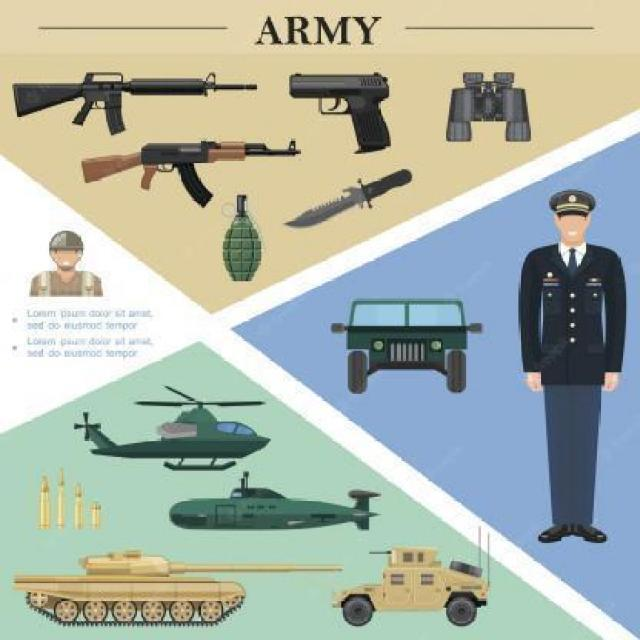Grenade: (222, 190, 266, 284)
Knife: (284, 164, 414, 230)
Pistol: (284, 70, 396, 156)
Rifle: (9, 70, 262, 138), (78, 137, 302, 212)
